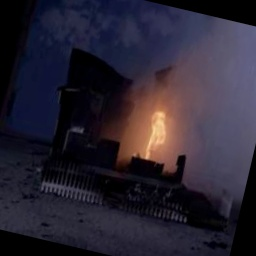fire: (130, 94, 184, 165)
smoke: (133, 4, 256, 130)
